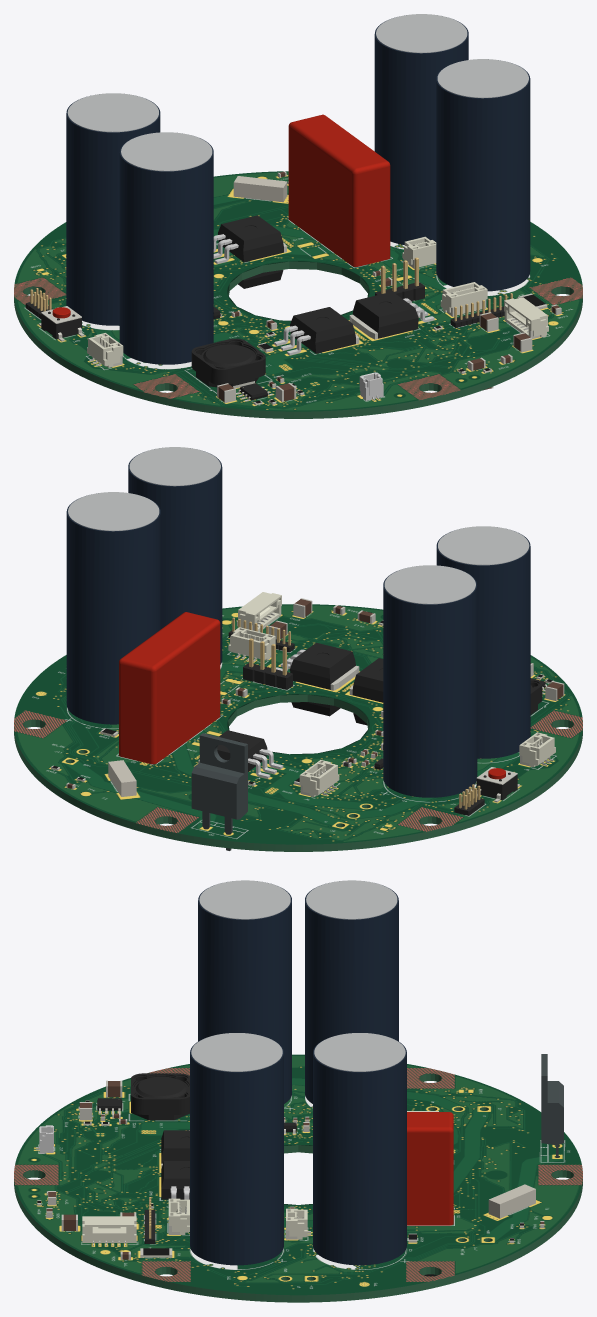
The model's file is space-octopus.glb.
The picture shows the model from 3 angles, top to bottom: view 1: azimuth 30°, elevation 25°; view 2: azimuth 150°, elevation 25°; view 3: azimuth 270°, elevation 25°; orthographic projection.
Parts seen in each view (by area): view 1: Box0, C1, C3, C2, C4, C5, L101, Q3, Q1, Q5, J10, F2 (+7 smaller); view 2: Box0, C4, C2, C3, C5, C1, D2, Q1, J9, Q5, J10, J6 (+7 smaller); view 3: Box0, C1, C2, C3, C4, C5, L101, D2, J10, Q1, F2, Q3 (+2 smaller).
Boxes of the visible parts, left/top/right/bottom form: Box0: left=14, top=171, right=582, bottom=418; C1: left=436, top=59, right=530, bottom=291; C3: left=119, top=132, right=213, bottom=364; C2: left=374, top=14, right=468, bottom=244; C4: left=66, top=93, right=160, bottom=325; C5: left=288, top=114, right=390, bottom=266; L101: left=191, top=338, right=265, bottom=388; Q3: left=274, top=307, right=359, bottom=355; Q1: left=349, top=291, right=434, bottom=339; Q5: left=213, top=215, right=286, bottom=263; J10: left=504, top=297, right=548, bottom=338; F2: left=233, top=176, right=287, bottom=202; Box0: left=14, top=604, right=582, bottom=851; C4: left=383, top=565, right=477, bottom=797; C2: left=66, top=492, right=160, bottom=724; C3: left=436, top=526, right=530, bottom=758; C5: left=119, top=612, right=220, bottom=764; C1: left=128, top=447, right=222, bottom=664; D2: left=191, top=733, right=247, bottom=850; Q1: left=276, top=642, right=359, bottom=690; J9: left=243, top=638, right=292, bottom=689; Q5: left=198, top=730, right=283, bottom=778; J10: left=237, top=592, right=281, bottom=631; J6: left=299, top=760, right=339, bottom=796; Box0: left=14, top=1054, right=582, bottom=1302; C1: left=190, top=1033, right=283, bottom=1265; C2: left=313, top=1033, right=406, bottom=1265; C3: left=198, top=880, right=291, bottom=1103; C4: left=305, top=880, right=398, bottom=1103; C5: left=407, top=1112, right=453, bottom=1225; L101: left=131, top=1073, right=189, bottom=1120; D2: left=541, top=1054, right=563, bottom=1157; J10: left=82, top=1216, right=136, bottom=1246; Q1: left=161, top=1161, right=189, bottom=1199; F2: left=488, top=1184, right=535, bottom=1218; Q3: left=161, top=1130, right=189, bottom=1168.
Size of the model in its own units: 112 by 49.02 by 112.
Materials: 25 (2 with a texture image).
